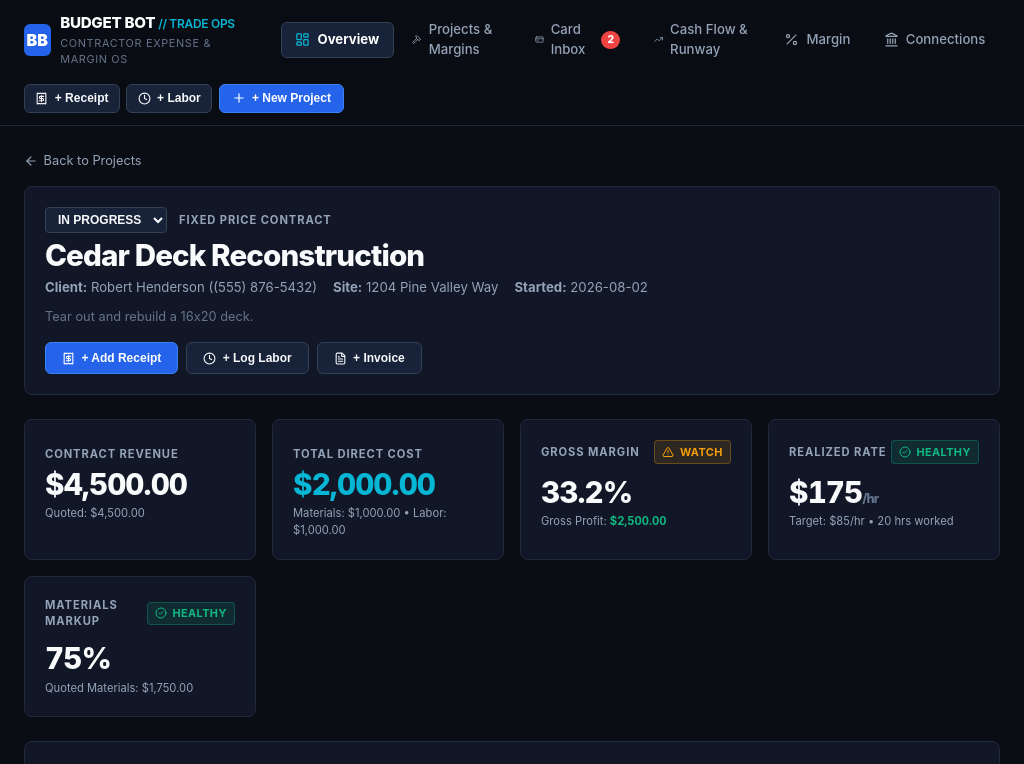
Test: ProjectDetailView › opens quick add against this job, whichever button was used
Click the button "+ Log Labor" at (248, 358), box [186, 342, 309, 374]
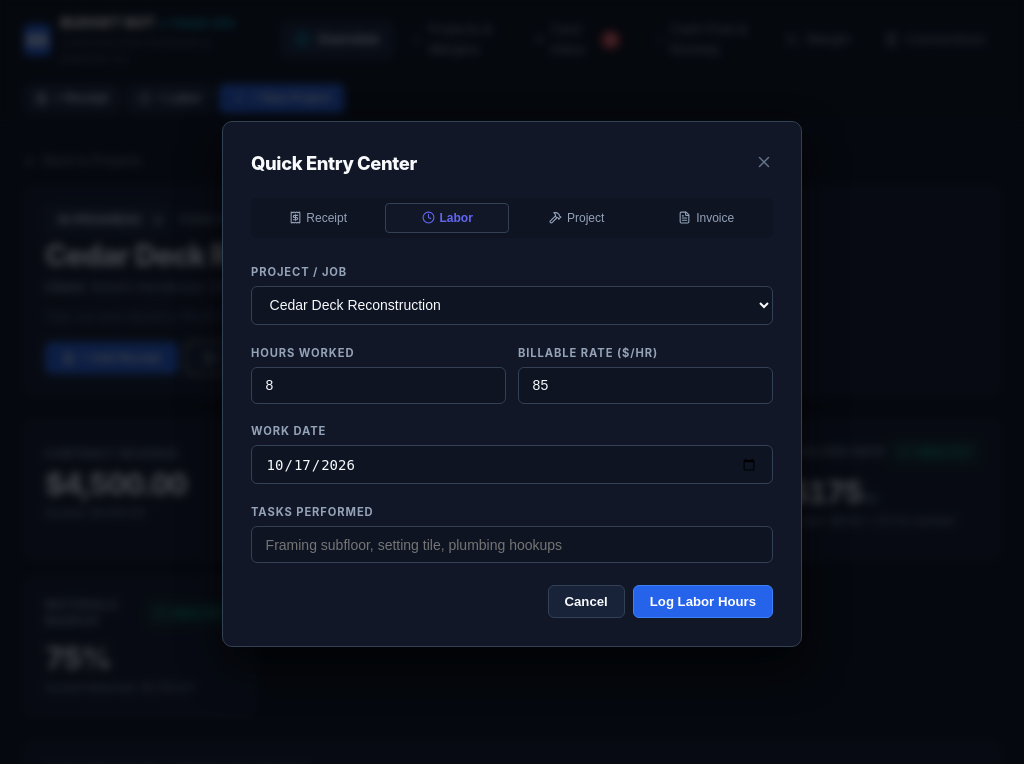
Check: the dropdown labelled "Project / Job" shows "Cedar Deck Reconstruction", box [251, 286, 773, 325]
